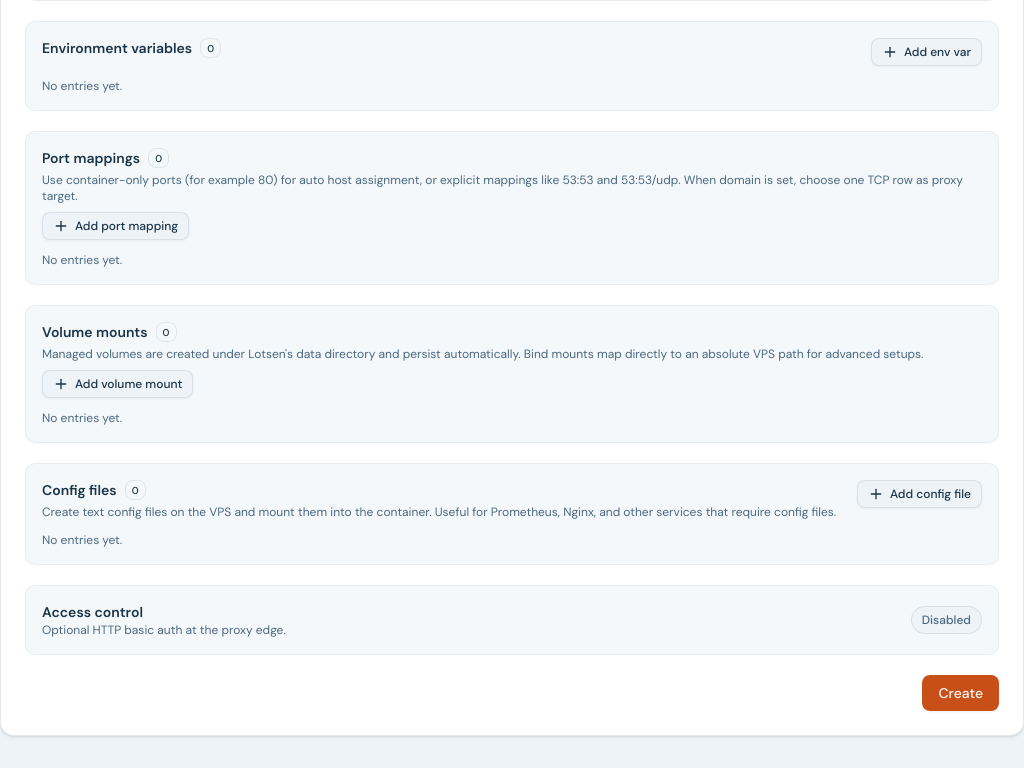
Test: CreateDeploymentForm › adds and removes a volume mount row
(page scrolled)
Click the button "Add volume mount": x=118, y=384 [42,370,193,398]
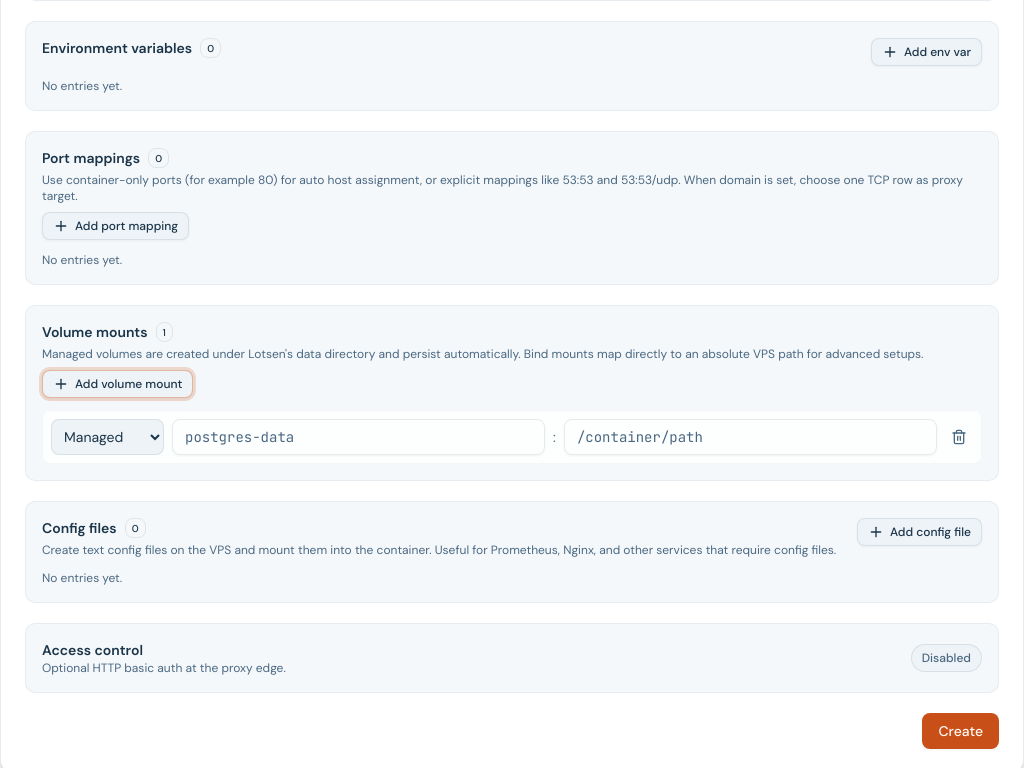
Check: the field with placeholder "postgres-data" is shown, box [172,419,545,455]
Click the button named "remove volume mount": x=959, y=437 [945,423,973,451]
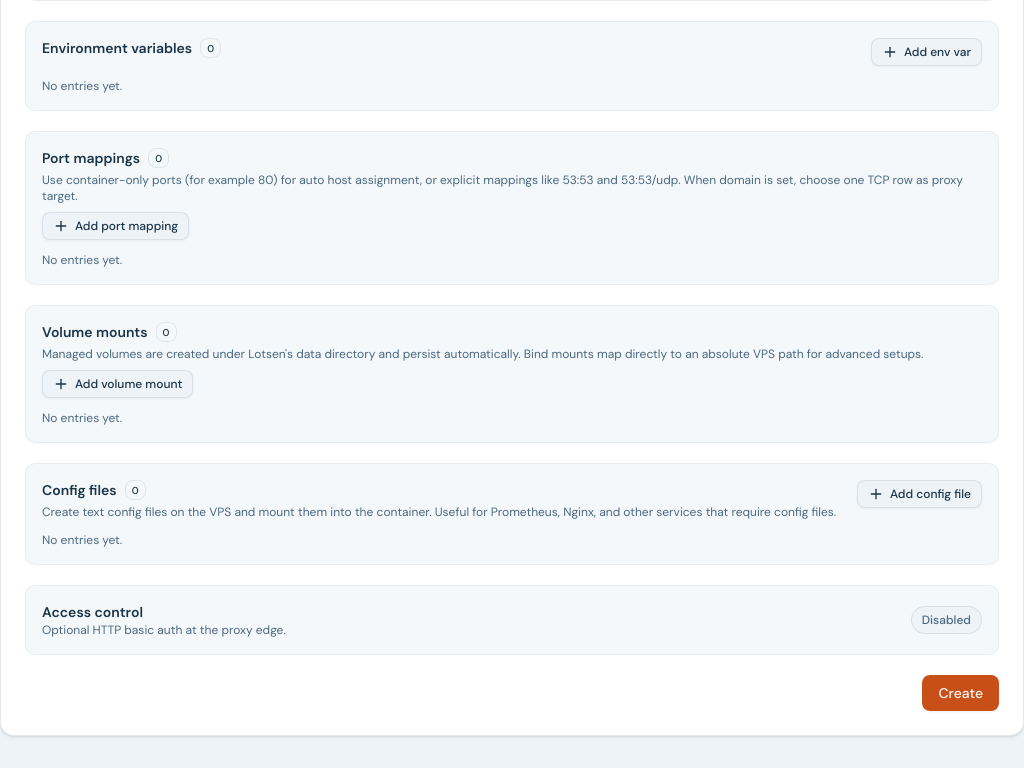
Check: the field with placeholder "postgres-data" is gone
